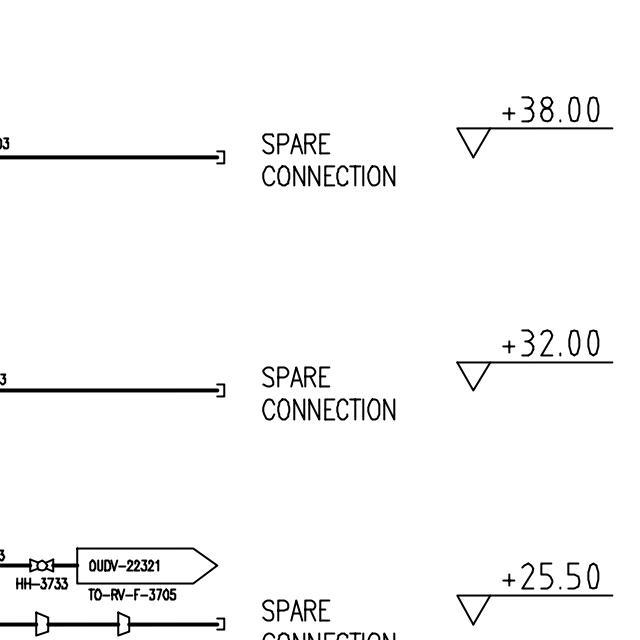BV2: (23, 556, 57, 573)
EC: (195, 613, 230, 635), (196, 145, 228, 168), (194, 380, 229, 400)
SP: (32, 608, 53, 639), (112, 609, 133, 638)
